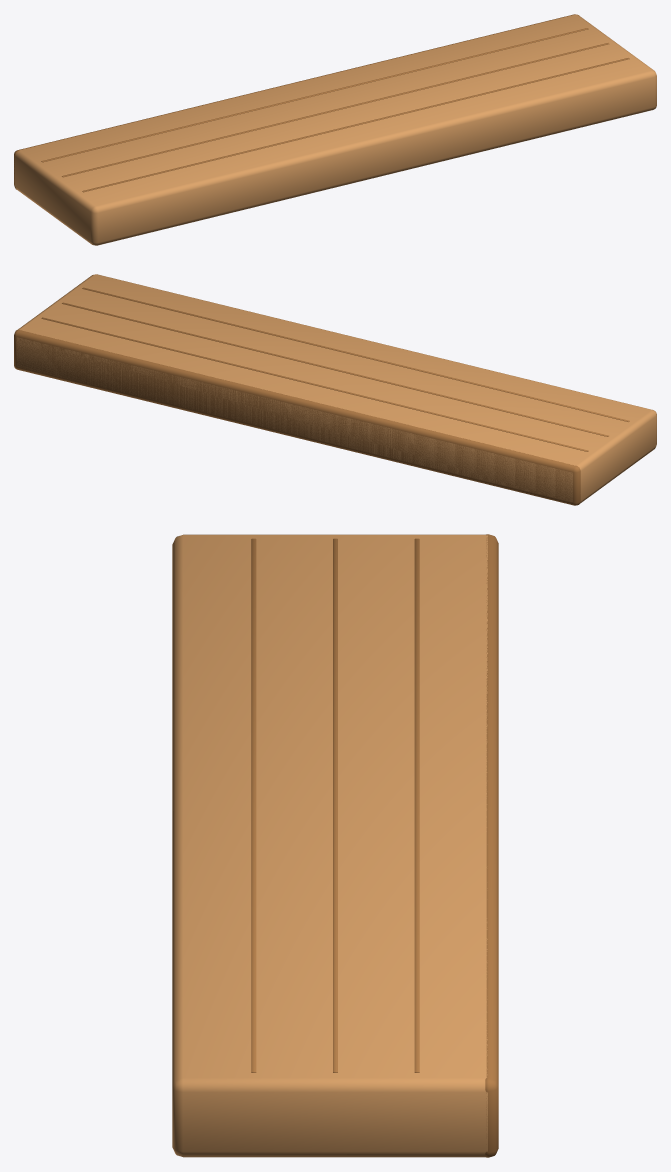
The model's file is env_desk_edge_v2.glb.
3 renders of one model, top to bottom at view 1: azimuth 30°, elevation 25°; view 2: azimuth 150°, elevation 25°; view 3: azimuth 270°, elevation 25°, orthographic. The views are drawn at different scales.
Parts seen in each view (by area): view 1: DeskEdgeV2; view 2: DeskEdgeV2; view 3: DeskEdgeV2.
Boxes of the visible parts, x1=… form: DeskEdgeV2: x1=14, y1=14, x2=656, y2=245; DeskEdgeV2: x1=14, y1=274, x2=656, y2=505; DeskEdgeV2: x1=172, y1=534, x2=498, y2=1157.
Bounding box in the file's own units: 6 × 0.406 × 1.5.
